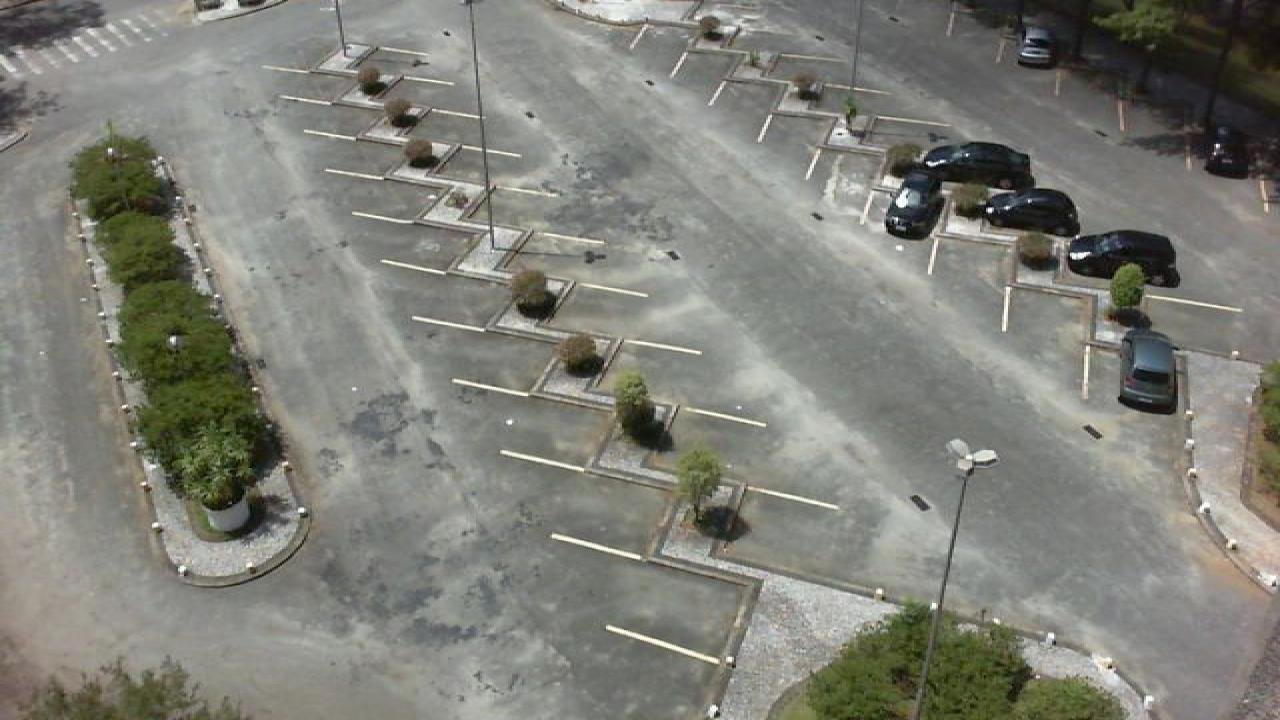Car: (1064, 228, 1182, 286), (1116, 325, 1182, 413), (916, 140, 1032, 185), (978, 187, 1082, 237), (882, 172, 944, 239), (1202, 120, 1252, 178), (1016, 10, 1062, 69)
